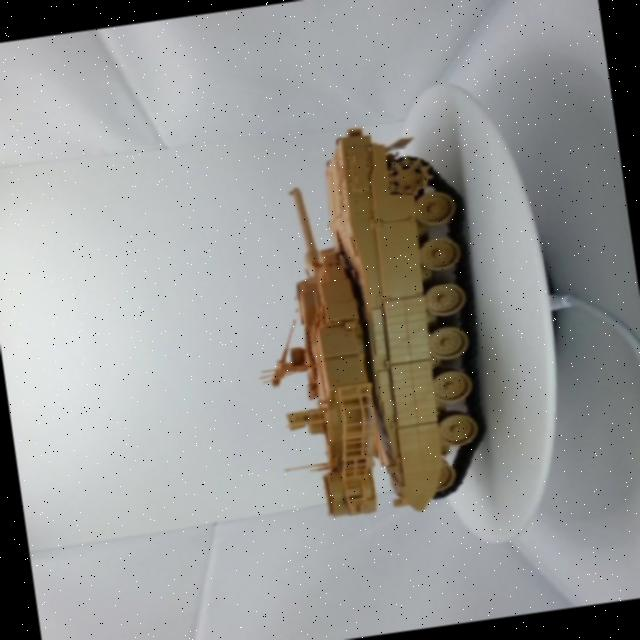korea tank: (216, 87, 525, 544)
